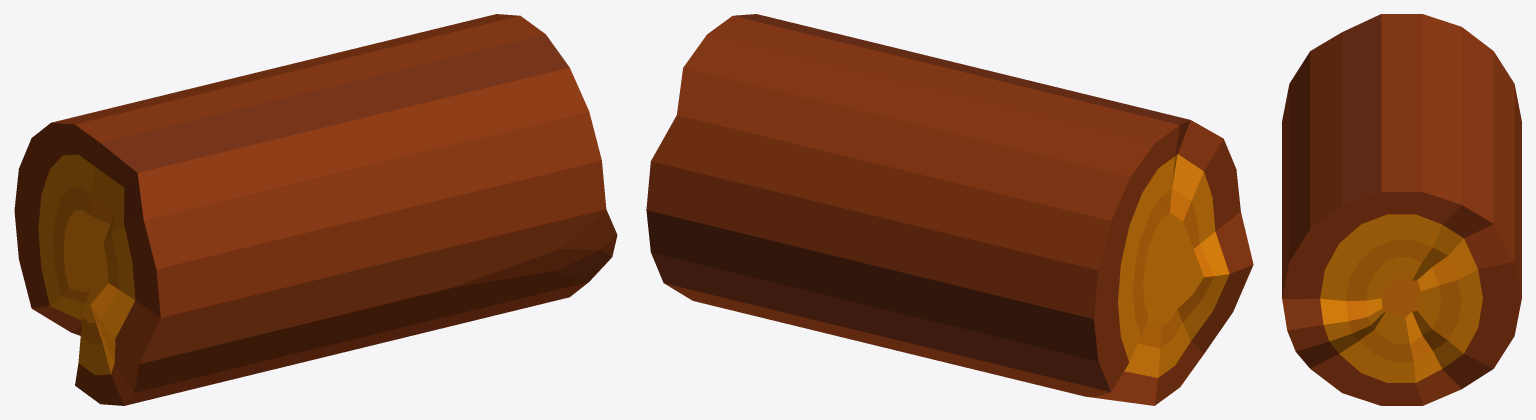
Rendered from Broken log_2.fbx.
The picture shows the model from 3 angles, left to right: view 1: azimuth 30°, elevation 25°; view 2: azimuth 150°, elevation 25°; view 3: azimuth 270°, elevation 25°; orthographic projection. The views are drawn at different scales.
Parts seen in each view (by area): view 1: Circle.019; view 2: Circle.019; view 3: Circle.019.
Boxes of the visible parts, x1,y1,x2,y2 form: Circle.019: (14,14,617,405); Circle.019: (646,14,1253,405); Circle.019: (1282,14,1521,405).
Bounding box in the file's own units: 48.11 × 25.19 × 25.57.
